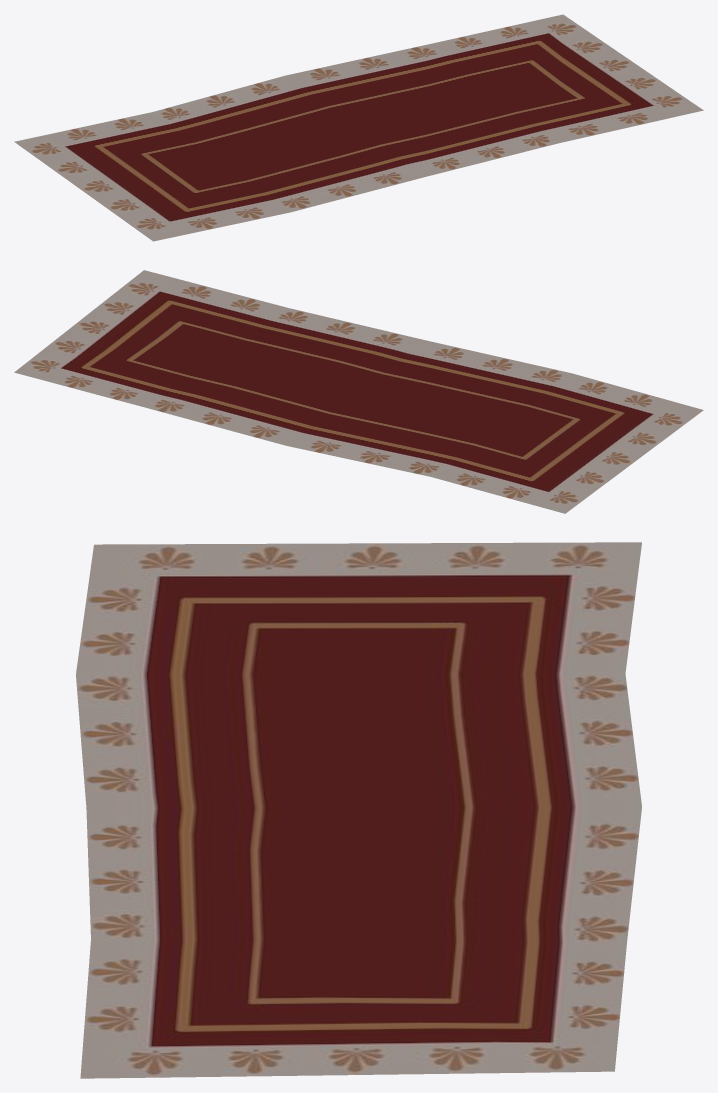
The model's file is SM_carpet_02.glb.
3 views of the same model, one above another, from view 1: azimuth 30°, elevation 25°; view 2: azimuth 150°, elevation 25°; view 3: azimuth 270°, elevation 25° (orthographic). The views are drawn at different scales.
Visible parts, largest first — view 1: SM_carpet_02; view 2: SM_carpet_02; view 3: SM_carpet_02.
Part boxes in pixels (x1=…): SM_carpet_02: x1=14, y1=14, x2=703, y2=241; SM_carpet_02: x1=14, y1=270, x2=703, y2=513; SM_carpet_02: x1=76, y1=542, x2=641, y2=1078.
Size of the model in its own units: 10.17 by 7.39e-07 by 4.54.
Materials: 1 (1 with a texture image).
